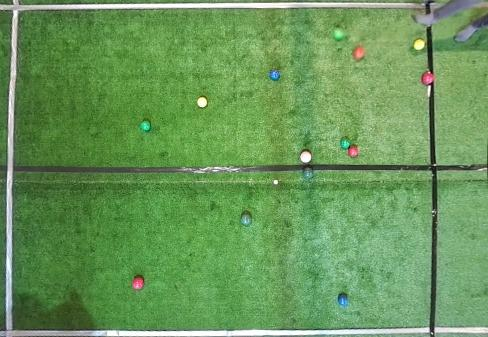blue: (338, 294, 348, 305), (270, 69, 280, 80)
green: (241, 213, 252, 226), (332, 28, 343, 40), (340, 138, 350, 150), (303, 167, 313, 178), (141, 121, 150, 131)
red: (421, 72, 434, 86), (132, 277, 144, 290), (353, 47, 365, 60), (300, 151, 311, 163), (348, 146, 359, 158)
vline: (427, 85, 487, 336), (0, 0, 20, 336), (426, 26, 487, 72), (425, 0, 487, 15)
white: (274, 180, 278, 184)
yellow: (414, 39, 425, 50), (197, 97, 207, 108)
